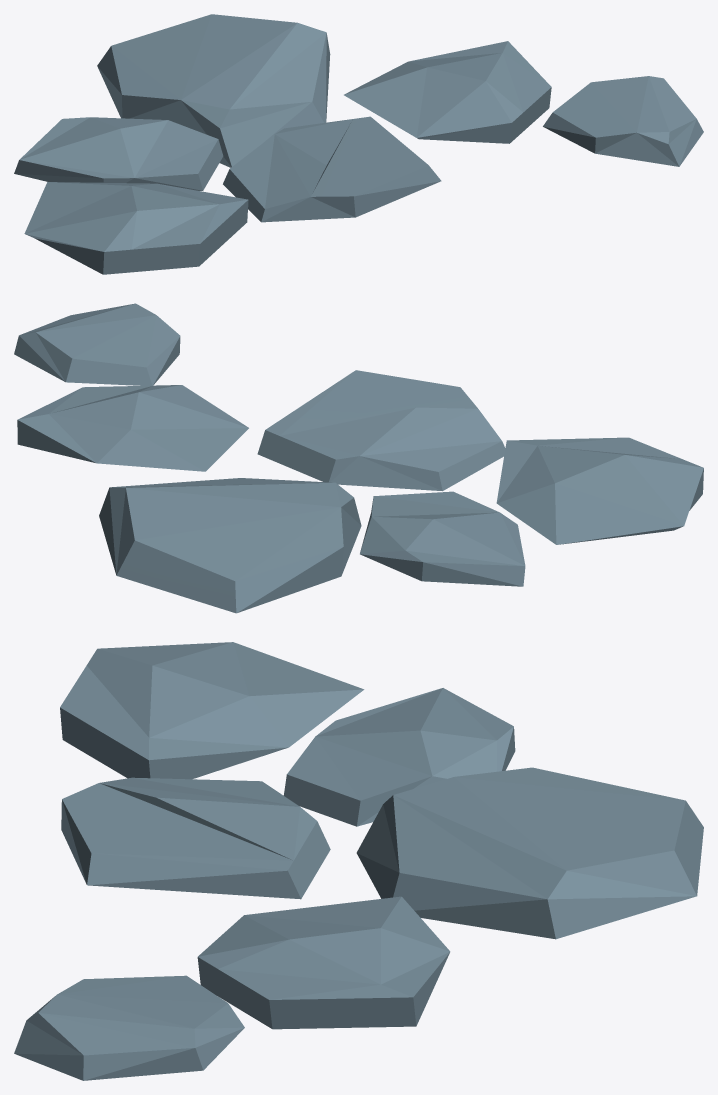
Rendered from stones.glb.
3 renders of one model, top to bottom at view 1: azimuth 30°, elevation 25°; view 2: azimuth 150°, elevation 25°; view 3: azimuth 270°, elevation 25°, orthographic. The views are drawn at different scales.
Visible parts, largest first — view 1: rocks; view 2: rocks; view 3: rocks.
Part boxes in pixels (<box>): rocks: <box>14,14,703,274</box>; rocks: <box>14,303,703,613</box>; rocks: <box>14,642,703,1080</box>.
Bounding box in the file's own units: 3.42 × 0.291 × 2.35.
